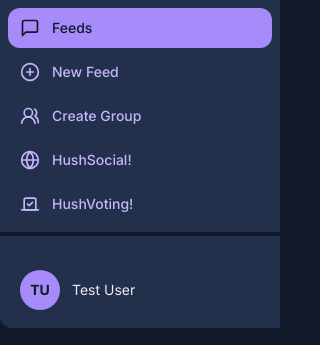
it: Sidebar › User Menu › should show user menu when profile button is clicked
Click the button with test id "user-menu-trigger": (40, 290) [8,260,272,320]
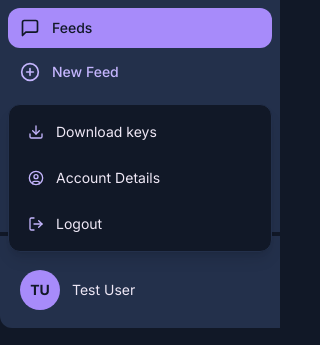
Expected: the text "Download keys" is shown, [56,122,157,142]
Expected: the text "Account Details" is shown, [56,168,160,188]
Expected: the text "Logout" is shown, [56,214,102,234]
